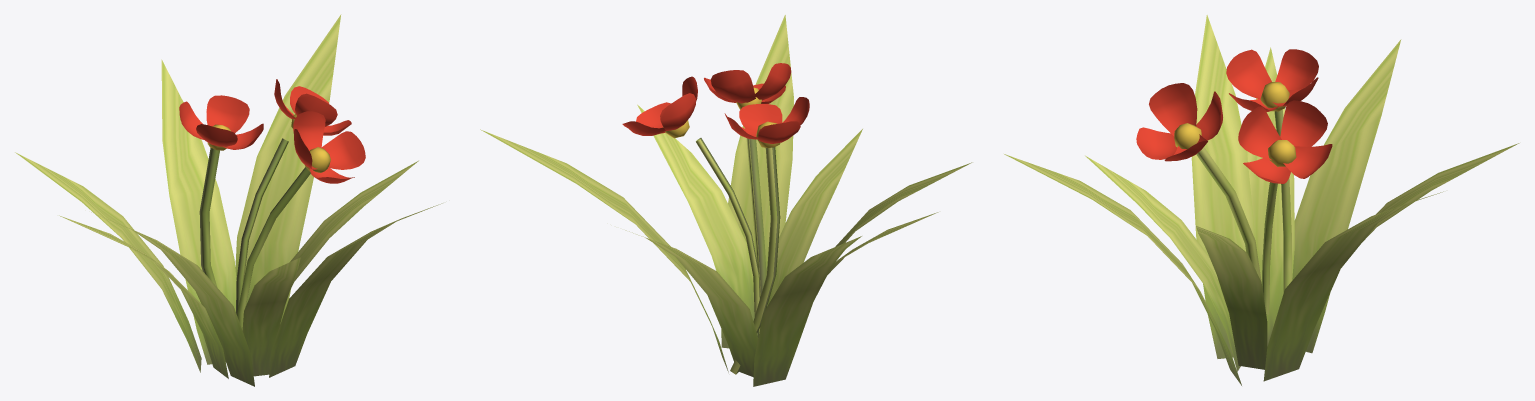
File: flower1.fbx
3 renders of one model, left to right at view 1: azimuth 30°, elevation 25°; view 2: azimuth 150°, elevation 25°; view 3: azimuth 270°, elevation 25°, orthographic. The views are drawn at different scales.
Parts seen in each view (by area): view 1: Plane.002; view 2: Plane.002; view 3: Plane.002.
Part boxes in pixels (x1,y1,x2,y2): Plane.002: [15, 14, 442, 386]; Plane.002: [480, 15, 972, 386]; Plane.002: [1004, 15, 1519, 385].
Size of the model in its own units: 80.59 by 55.04 by 88.29.
